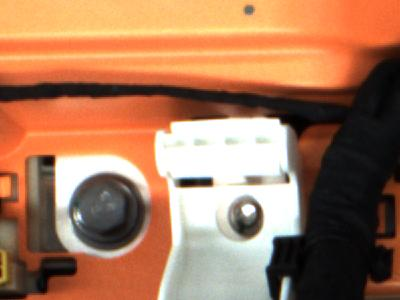nut_b: (65, 170, 155, 252)
